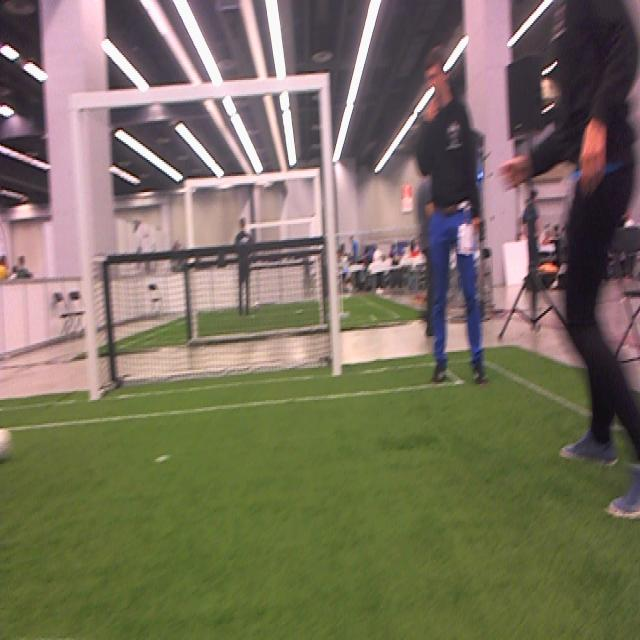ball: (0, 428, 15, 464)
goalpost: (69, 89, 100, 402), (318, 71, 342, 375)
